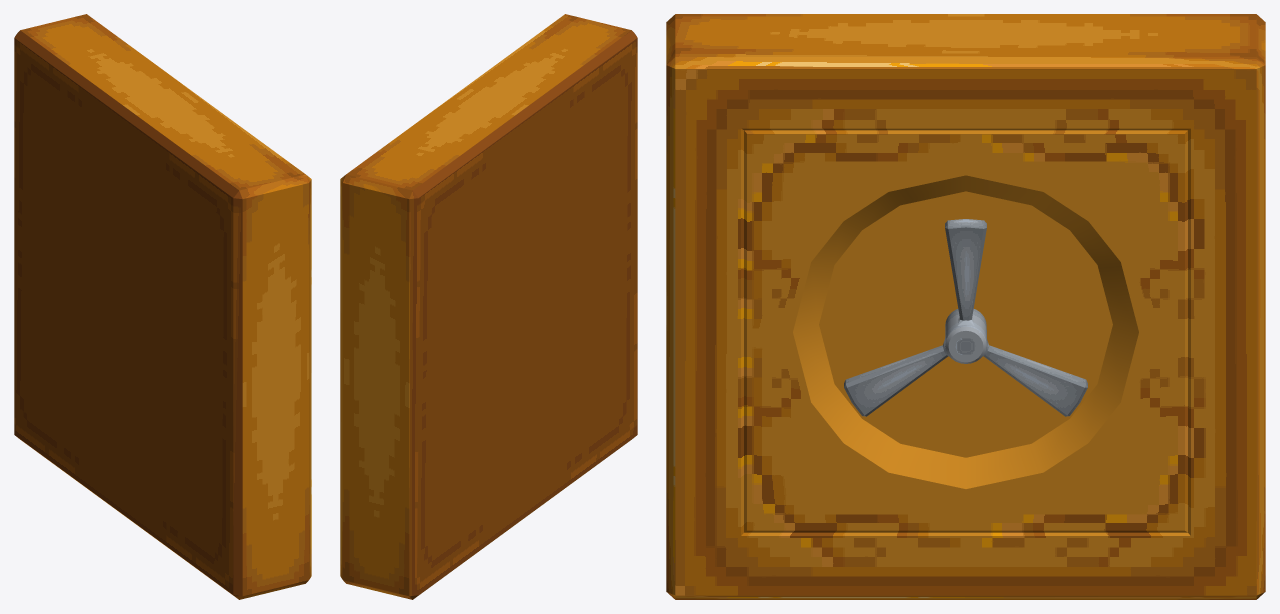
File: Greed_Safe_Door.glb
3 views of the same model, side by side, from view 1: azimuth 30°, elevation 25°; view 2: azimuth 150°, elevation 25°; view 3: azimuth 270°, elevation 25° (orthographic). The views are drawn at different scales.
Visible parts, largest first — view 1: Cube.001; view 2: Cube.001; view 3: Cube.001, Cylinder.002.
Boxes of the visible parts, x1,y1,x2,y2 form: Cube.001: [14, 14, 311, 599]; Cube.001: [340, 14, 637, 599]; Cube.001: [666, 14, 1265, 599]; Cylinder.002: [844, 219, 1087, 416].
Size of the model in its own units: 0.513 by 2 by 2.
3 materials, 3 textured.
